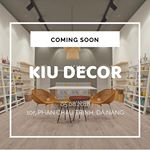other: (28, 84, 129, 126)
